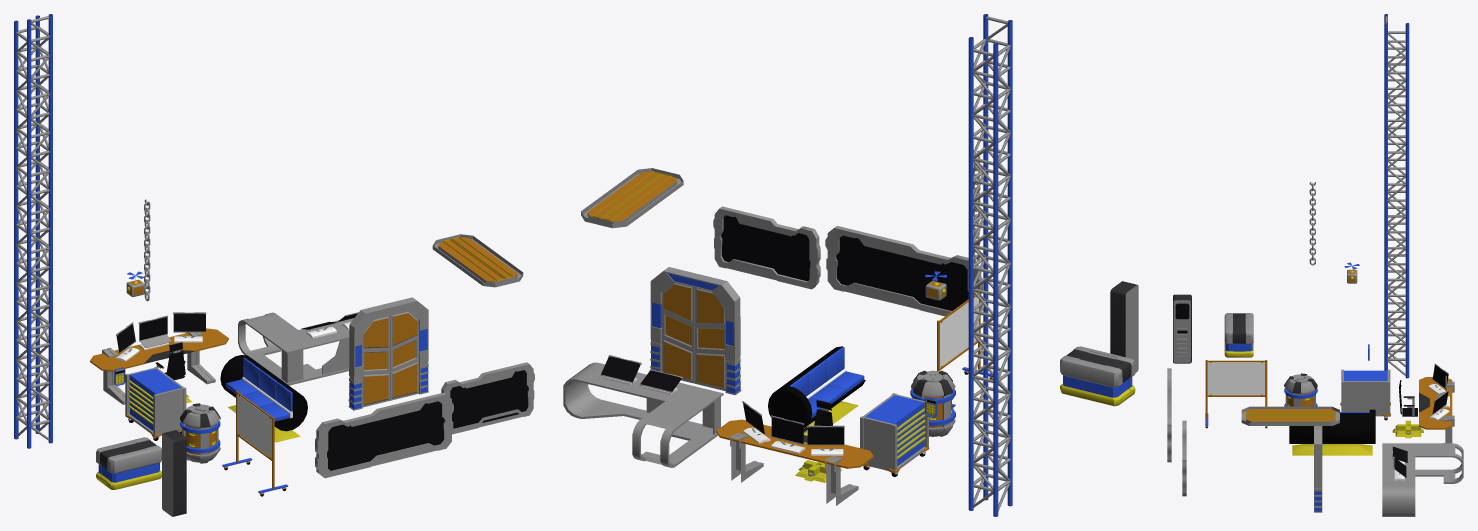
Rendered from props scifi.fbx.
The picture shows the model from 3 angles, left to right: view 1: azimuth 30°, elevation 25°; view 2: azimuth 150°, elevation 25°; view 3: azimuth 270°, elevation 25°; orthographic projection. The views are drawn at different scales.
Visible parts, largest first — view 1: M_Scaffolding_016, Box575, M_Office_Desk001, Box576, M_Sofa001, M_RollCab_005, Object363, M_Desk004, M_Crate_014, Box580, Object364, Object365 (+6 smaller); view 2: M_Scaffolding_016, Box575, M_Office_Desk001, Box576, M_Sofa001, M_RollCab_005, Object363, M_Desk004, M_Crate_014, Box580, Object364, Object365 (+6 smaller); view 3: M_Scaffolding_016, M_Office_Desk001, M_Sofa001, M_WhiteBoard_005, M_RollCab_005, Box580, M_Desk004, M_Crate_014, M_Locker005, M_Barrel_012, Object363, Object367 (+5 smaller).
Boxes of the visible parts, x1,y1,x2,y2 form: M_Scaffolding_016: (14, 14, 52, 448); Box575: (315, 392, 453, 478); M_Office_Desk001: (238, 312, 353, 385); Box576: (441, 362, 534, 434); M_Sofa001: (220, 355, 307, 442); M_RollCab_005: (125, 366, 186, 440); Object363: (348, 297, 428, 410); M_Desk004: (90, 328, 228, 404); M_Crate_014: (96, 437, 161, 489); Box580: (432, 234, 523, 287); Object364: (390, 311, 419, 400); Object365: (362, 315, 390, 407); M_Scaffolding_016: (968, 14, 1012, 516); Box575: (825, 226, 982, 316); M_Office_Desk001: (563, 362, 723, 467); Box576: (713, 206, 820, 289); M_Sofa001: (768, 346, 865, 435); M_RollCab_005: (860, 393, 929, 476); Object363: (650, 267, 741, 395); M_Desk004: (716, 419, 873, 505); M_Crate_014: (1060, 346, 1135, 406); Box580: (581, 168, 683, 228); Object364: (661, 282, 694, 383); Object365: (694, 288, 725, 390); M_Scaffolding_016: (1384, 14, 1409, 378); M_Office_Desk001: (1382, 443, 1463, 516); M_Sofa001: (1289, 409, 1375, 455); M_WhiteBoard_005: (1205, 360, 1267, 428); M_RollCab_005: (1340, 369, 1390, 420); Box580: (1241, 406, 1339, 425); M_Desk004: (1419, 377, 1454, 443); M_Crate_014: (1224, 313, 1253, 357); M_Locker005: (1173, 294, 1191, 363); M_Barrel_012: (1284, 373, 1317, 406); Object363: (1314, 426, 1322, 512); Object367: (1428, 363, 1449, 420).
Size of the model in its own units: 439 by 423 by 320.
